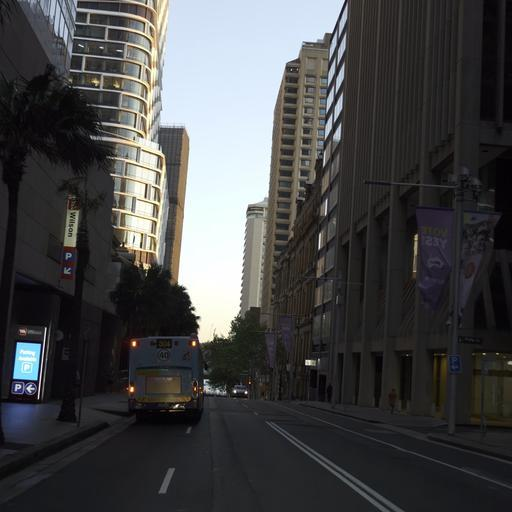Street light: (362, 165, 485, 434), (300, 274, 362, 407)
